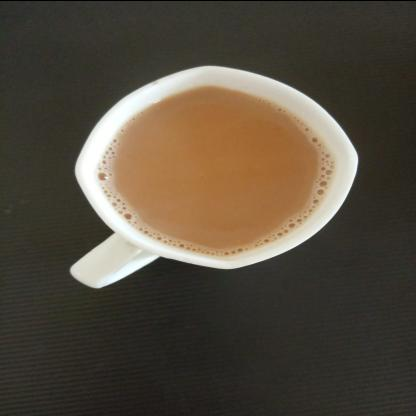cup: (29, 53, 333, 271)
